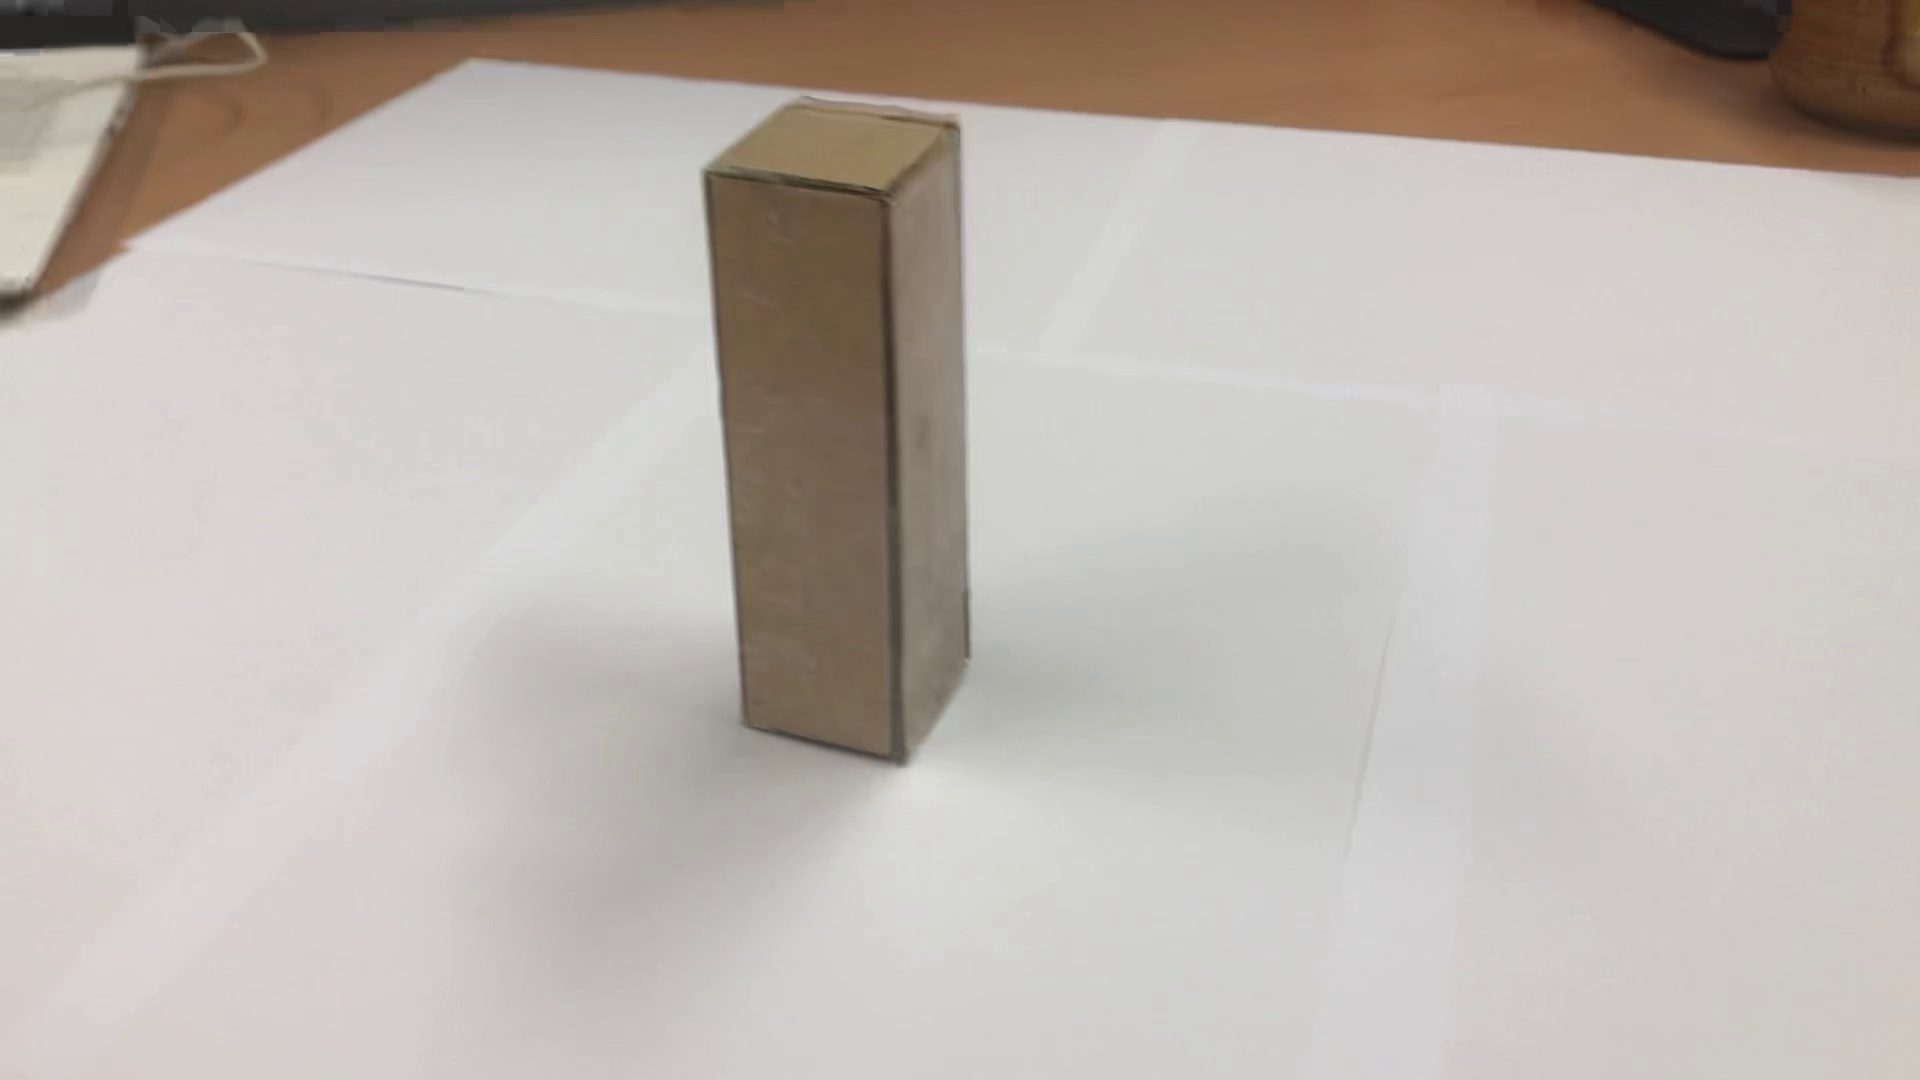box: (680, 84, 1009, 789)
